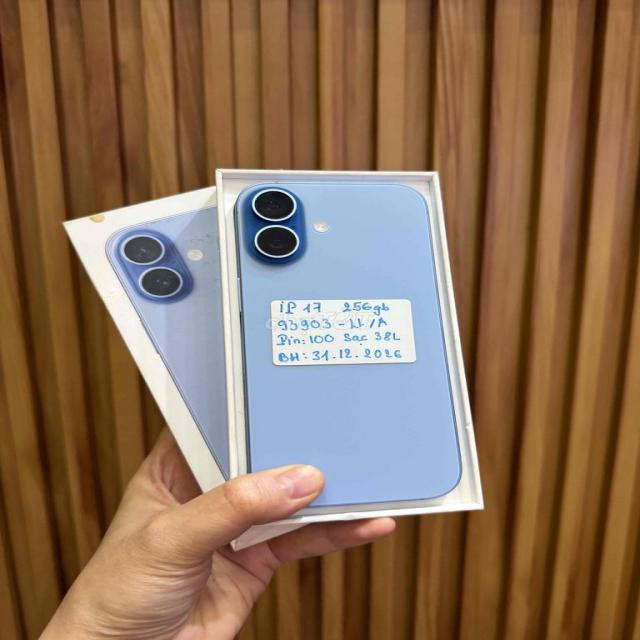gen_17: (236, 172, 471, 527)
